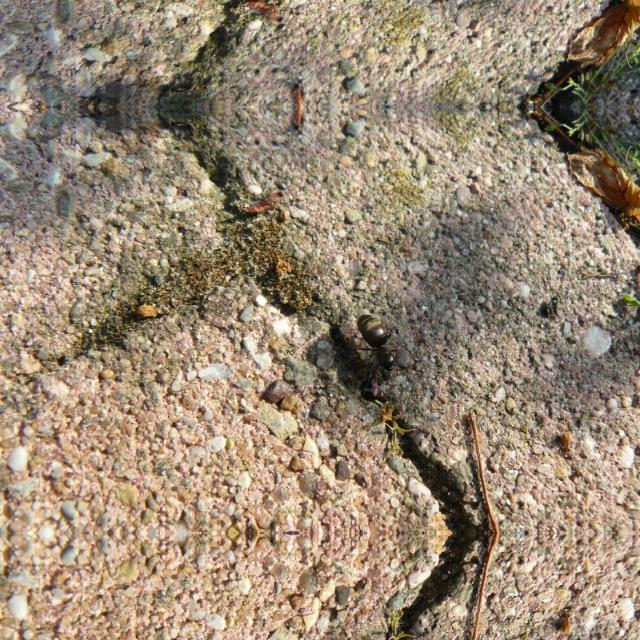Lasius: (354, 306, 408, 382)
